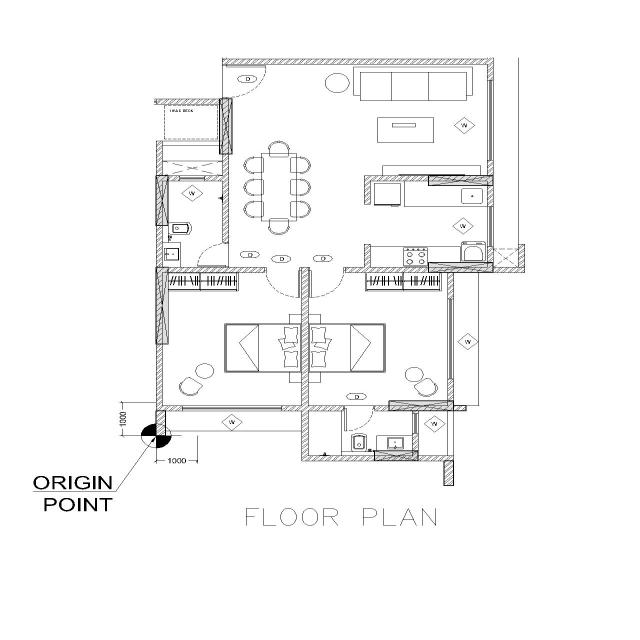Column: (154, 266, 170, 346), (426, 172, 495, 189), (217, 96, 236, 156), (427, 260, 495, 275), (387, 399, 457, 412), (154, 174, 170, 227), (372, 448, 420, 464)
Door: (220, 58, 230, 99), (261, 266, 303, 274), (306, 266, 348, 274), (220, 240, 231, 268), (340, 404, 378, 412)
Window: (446, 297, 456, 380), (181, 405, 283, 413), (486, 78, 495, 162), (485, 204, 495, 248), (178, 174, 208, 182), (410, 410, 420, 434)
